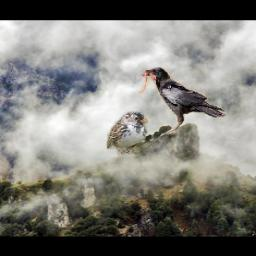Crow: (137, 65, 227, 135)
Sparrow: (107, 112, 148, 155)
